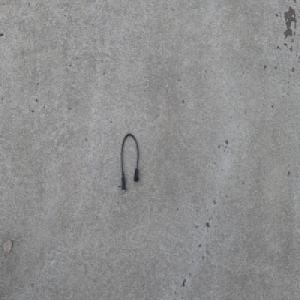Wire: (120, 132, 139, 193)
